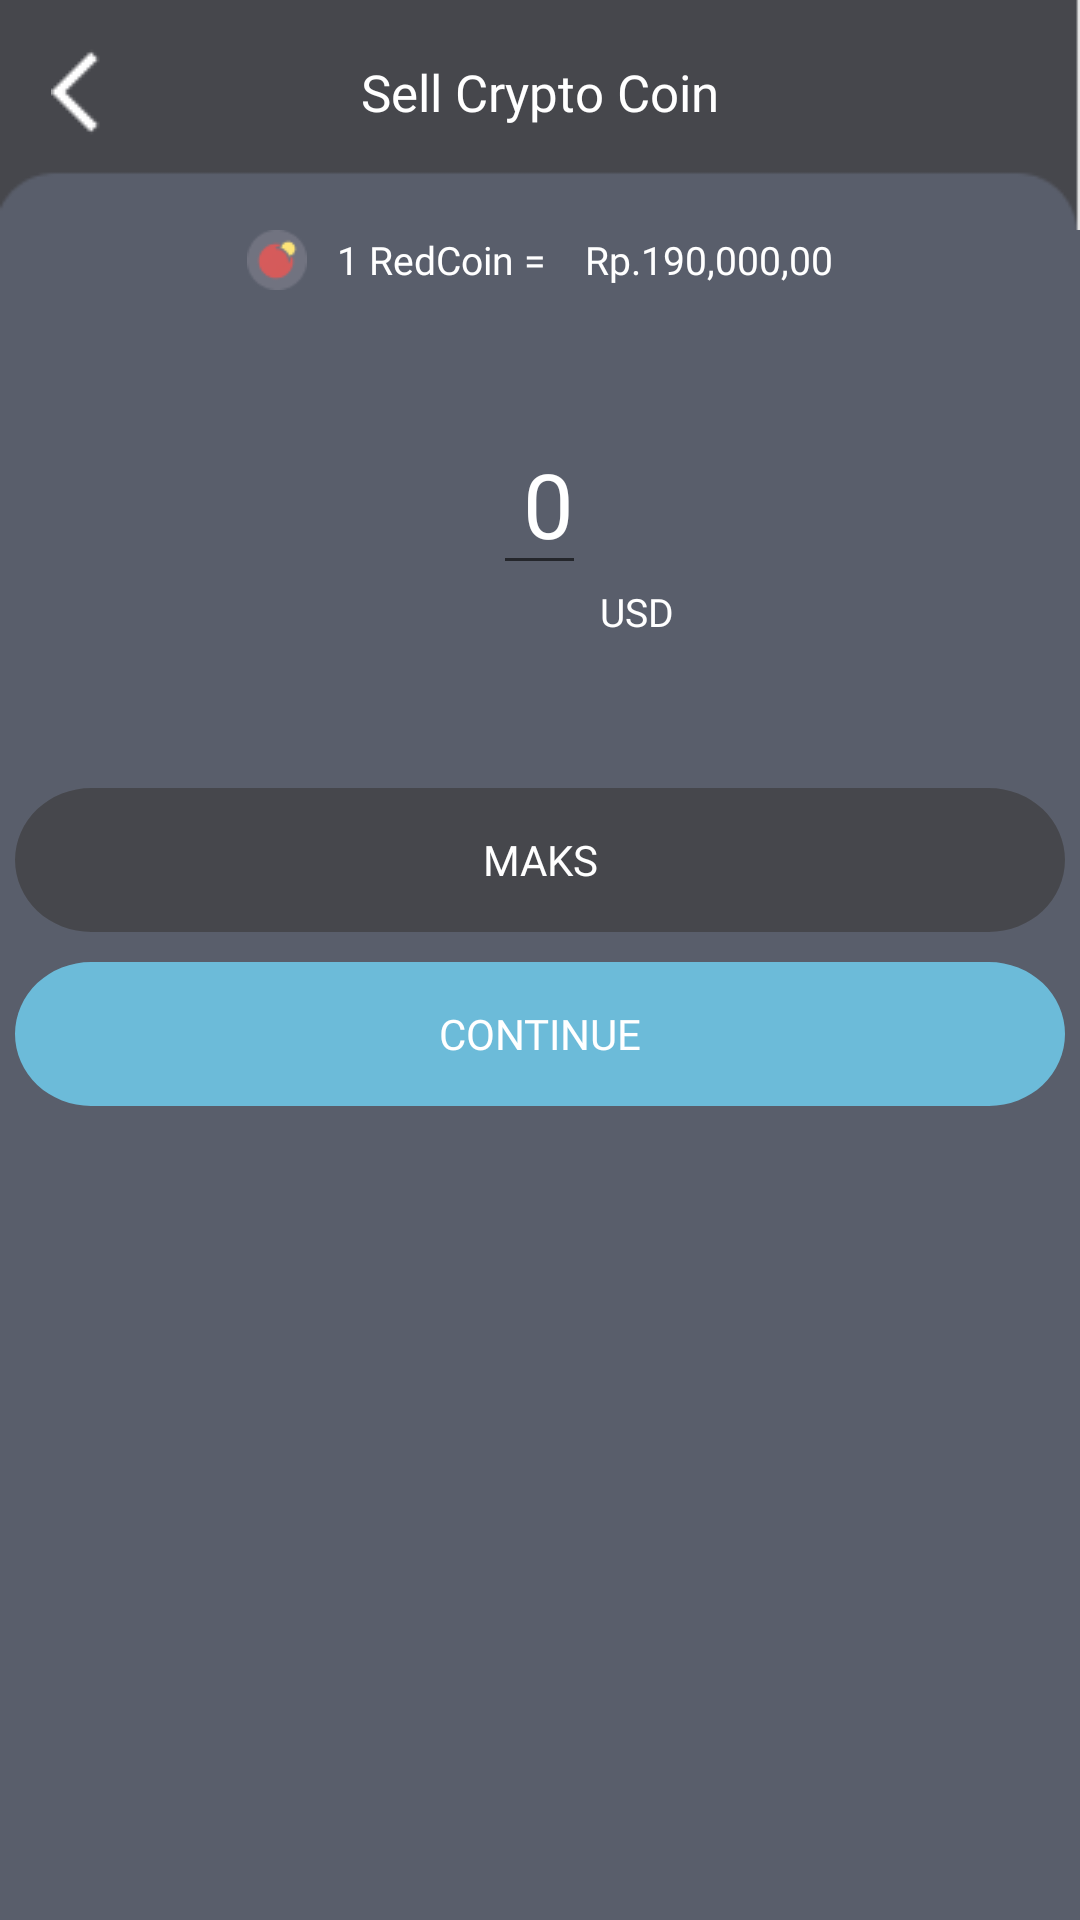

Where to tap for icons on this 1080*1920 app screen, as (x=x, y=y):
back trade: (x=74, y=92)
